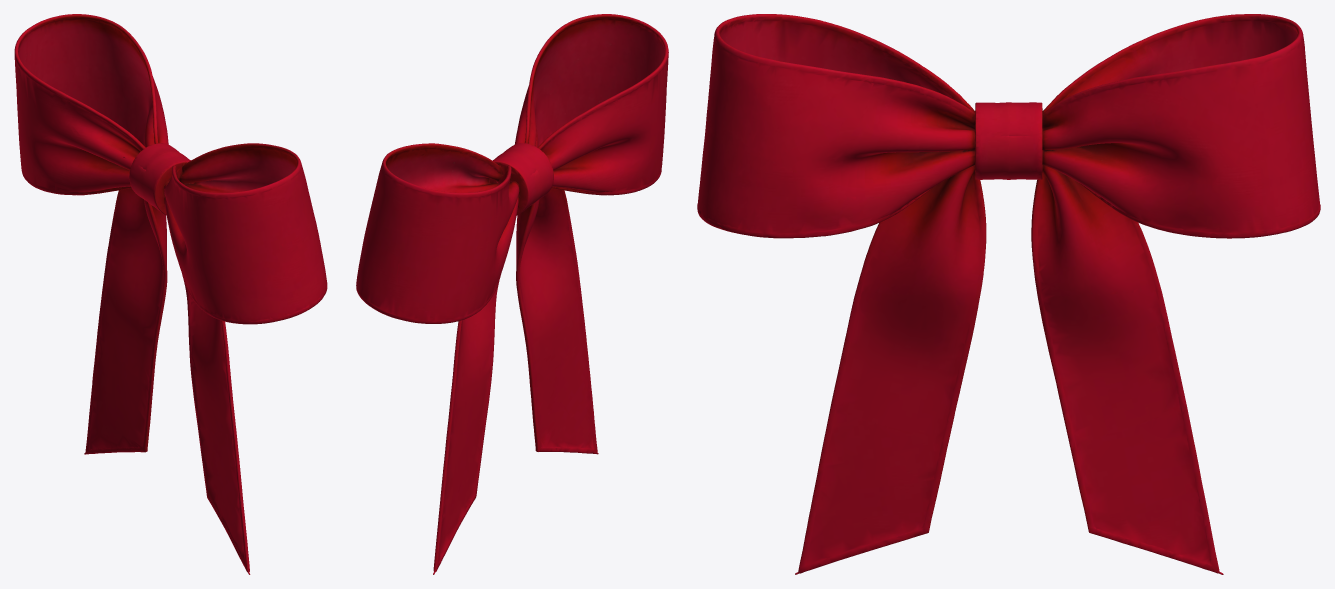
The model's file is red satin bow 3d model_opt.glb.
The picture shows the model from 3 angles, left to right: view 1: azimuth 30°, elevation 25°; view 2: azimuth 150°, elevation 25°; view 3: azimuth 270°, elevation 25°; orthographic projection. The views are drawn at different scales.
Visible parts, largest first — view 1: tripo_node_fc618458-1a96-4c84-9e81-48e867643200; view 2: tripo_node_fc618458-1a96-4c84-9e81-48e867643200; view 3: tripo_node_fc618458-1a96-4c84-9e81-48e867643200.
Part boxes in pixels (x1,y1,x2,y2): tripo_node_fc618458-1a96-4c84-9e81-48e867643200: [14, 14, 327, 574]; tripo_node_fc618458-1a96-4c84-9e81-48e867643200: [356, 14, 668, 574]; tripo_node_fc618458-1a96-4c84-9e81-48e867643200: [697, 14, 1320, 574].
Size of the model in its own units: 0.2981 by 0.9576 by 0.9999.
Materials: 1 (1 with a texture image).
